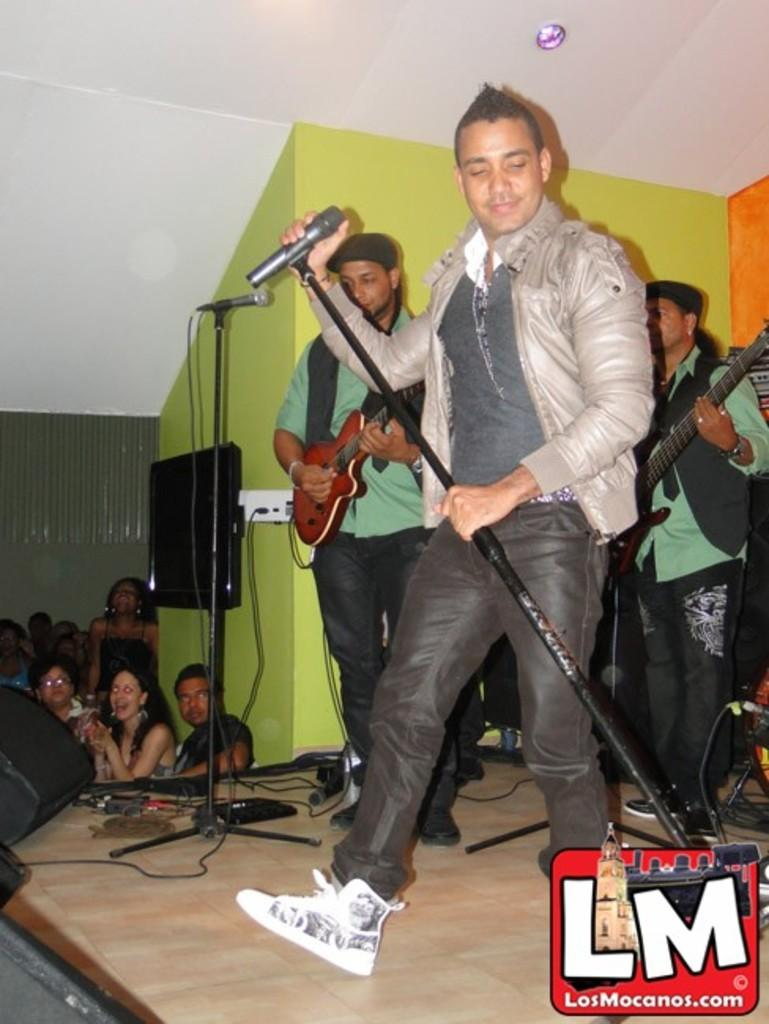Pessoa: (238, 85, 652, 973), (629, 280, 768, 837), (273, 336, 430, 786), (86, 669, 175, 780), (88, 577, 158, 702), (29, 651, 85, 738), (174, 663, 210, 775), (0, 619, 32, 694), (27, 610, 53, 657)
